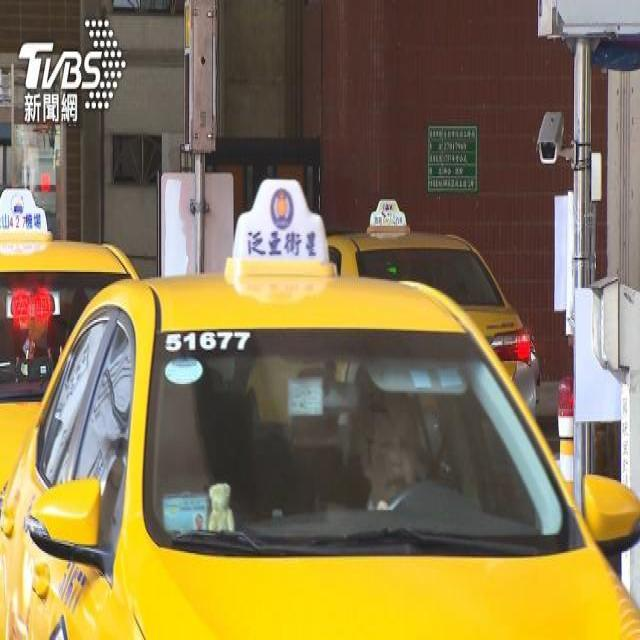taxi: (36, 181, 640, 640), (1, 168, 138, 356), (329, 196, 538, 304)
